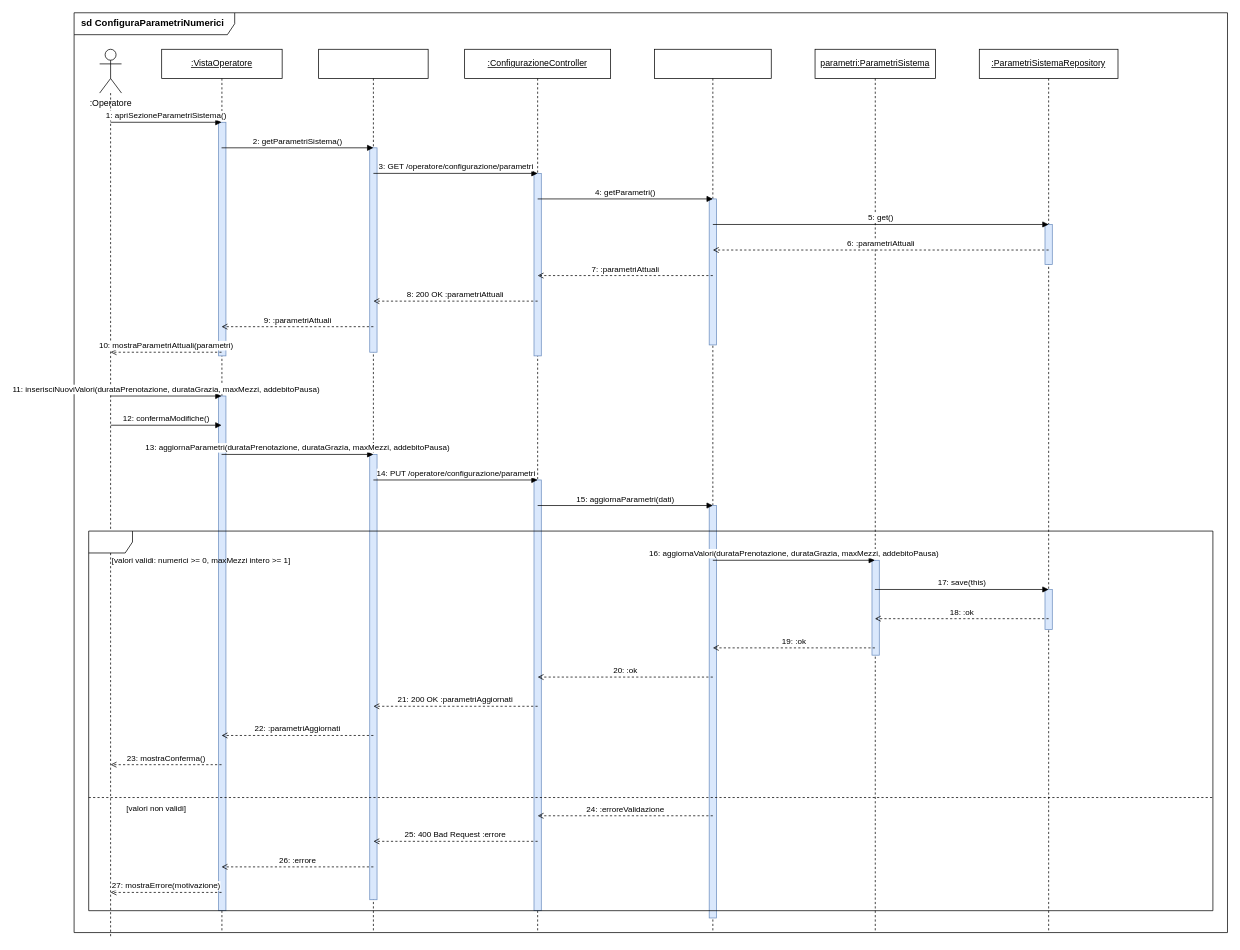
Some shapes in this 1240 by 950 pixel diagram are drawn without their labels. The shapes that lost their labels are listed below. From the top down, each one's box as (x1, y1, x2, y2) in pixels, then its label:
(318, 49, 428, 933): :ConfigurazioneService
(654, 49, 771, 933): :ServizioParametri
(88, 530, 1213, 911): alt
